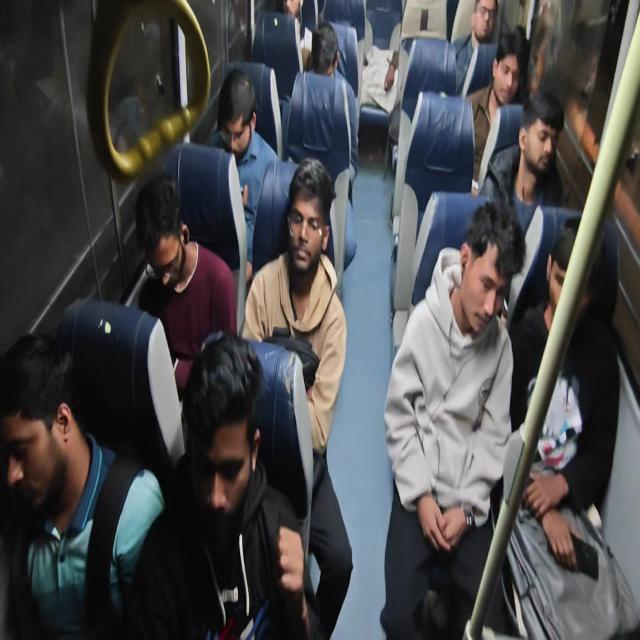person: (158, 314, 236, 550), (0, 342, 128, 482), (270, 162, 354, 302), (101, 174, 206, 276), (445, 215, 515, 320), (186, 71, 259, 165), (362, 0, 413, 129), (538, 230, 602, 323), (305, 19, 367, 94), (522, 101, 560, 202), (494, 38, 532, 120), (465, 8, 517, 51), (282, 0, 306, 24)
